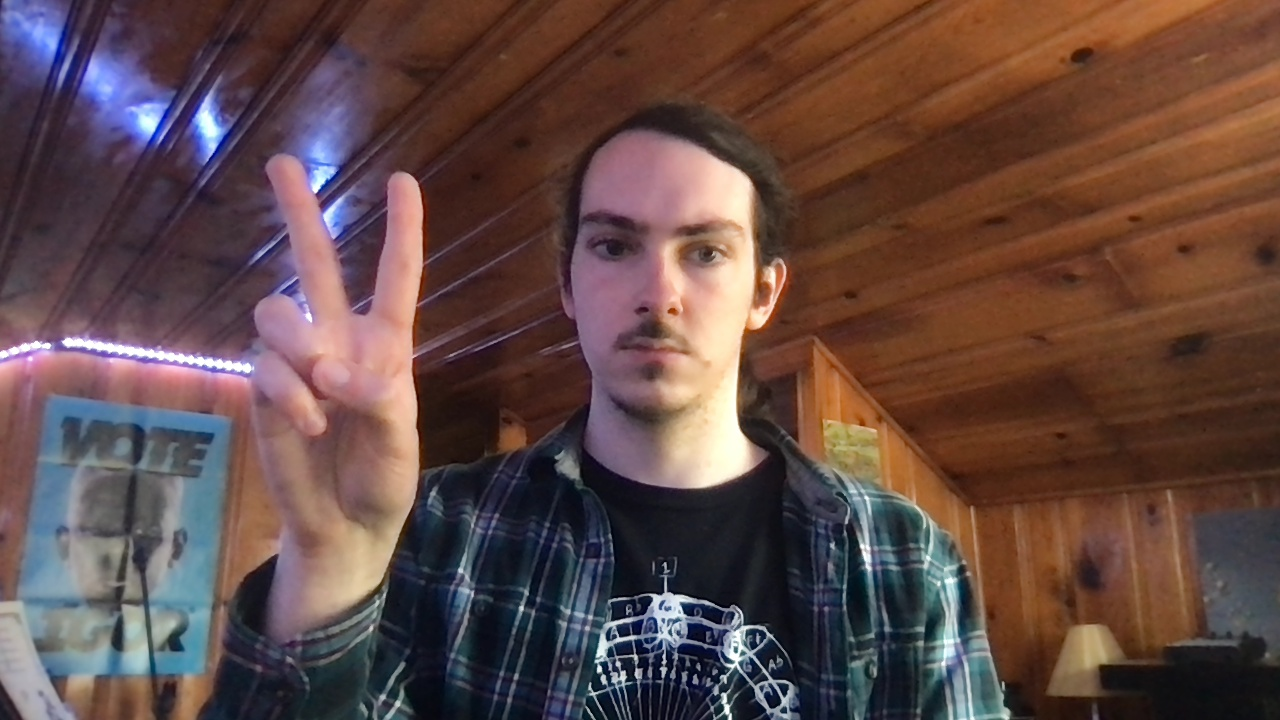v: (245, 153, 426, 561)
